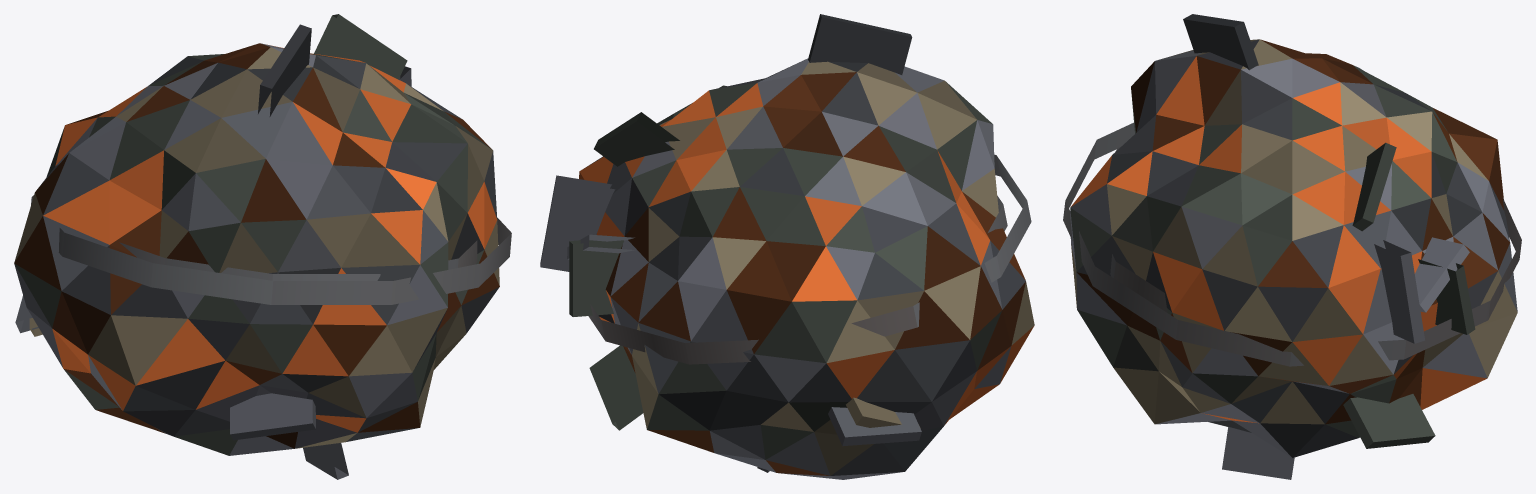
The model's file is scrap_ball.glb.
3 views of the same model, side by side, from view 1: azimuth 30°, elevation 25°; view 2: azimuth 150°, elevation 25°; view 3: azimuth 270°, elevation 25° (orthographic). The views are drawn at different scales.
Visible parts, largest first — view 1: Mesh; view 2: Mesh; view 3: Mesh.
Part boxes in pixels (x1,y1,x2,y2): Mesh: (14, 14, 511, 479); Mesh: (540, 14, 1034, 479); Mesh: (1063, 14, 1521, 479).
Bounding box in the file's own units: 0.6911 × 0.7097 × 0.6702.
